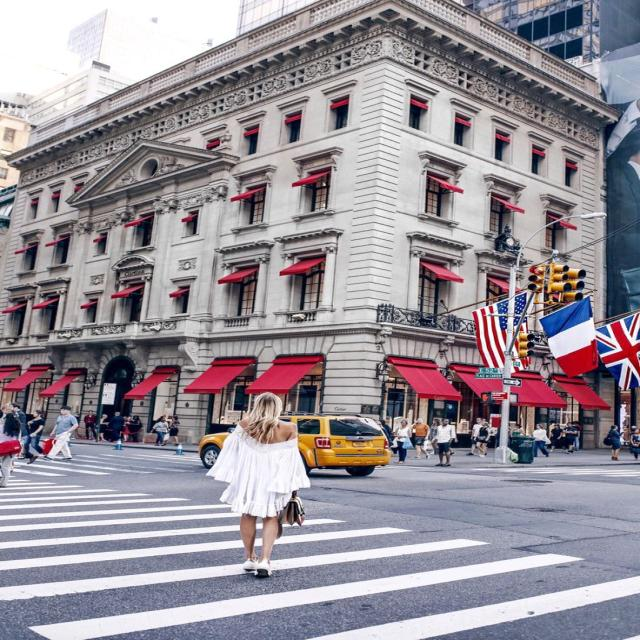body: (205, 391, 312, 578), (41, 405, 79, 462), (0, 411, 23, 487), (434, 416, 456, 467), (464, 416, 490, 456), (12, 402, 30, 459), (23, 410, 46, 454), (411, 417, 432, 460), (375, 420, 394, 467), (601, 424, 624, 460), (394, 419, 412, 463), (530, 422, 552, 457), (148, 414, 170, 446), (472, 420, 491, 457), (546, 424, 566, 454), (376, 419, 394, 452), (426, 418, 441, 456), (560, 421, 577, 454), (497, 420, 512, 454), (109, 412, 125, 442), (484, 417, 499, 449), (84, 408, 98, 442), (167, 415, 182, 446), (68, 410, 82, 440), (128, 414, 143, 442), (96, 413, 110, 442), (629, 428, 640, 460), (570, 421, 581, 451), (571, 420, 582, 450), (122, 414, 133, 442), (509, 423, 524, 437), (547, 419, 557, 439), (0, 404, 12, 414), (482, 418, 487, 422)
